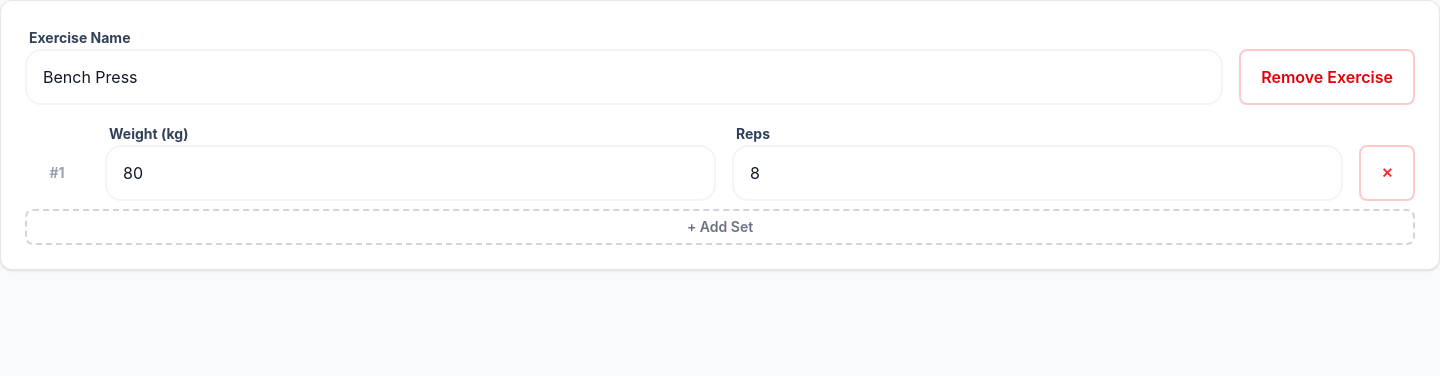
Scenario: ExerciseCard › adds a new set when "Add Set" is clicked
The width and height of the screenshot is (1440, 376).
# Click Add Set
Click the button with test id "add-set-btn-0": (720, 227) [25, 209, 1415, 245]
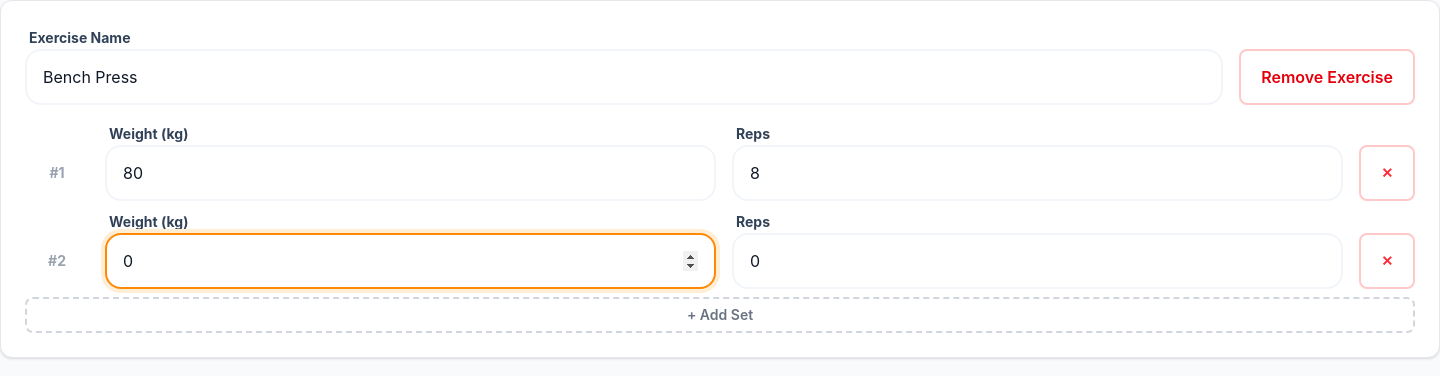
Check: the element with test id "set-row-0-1" is shown, box [25, 209, 1415, 289]
